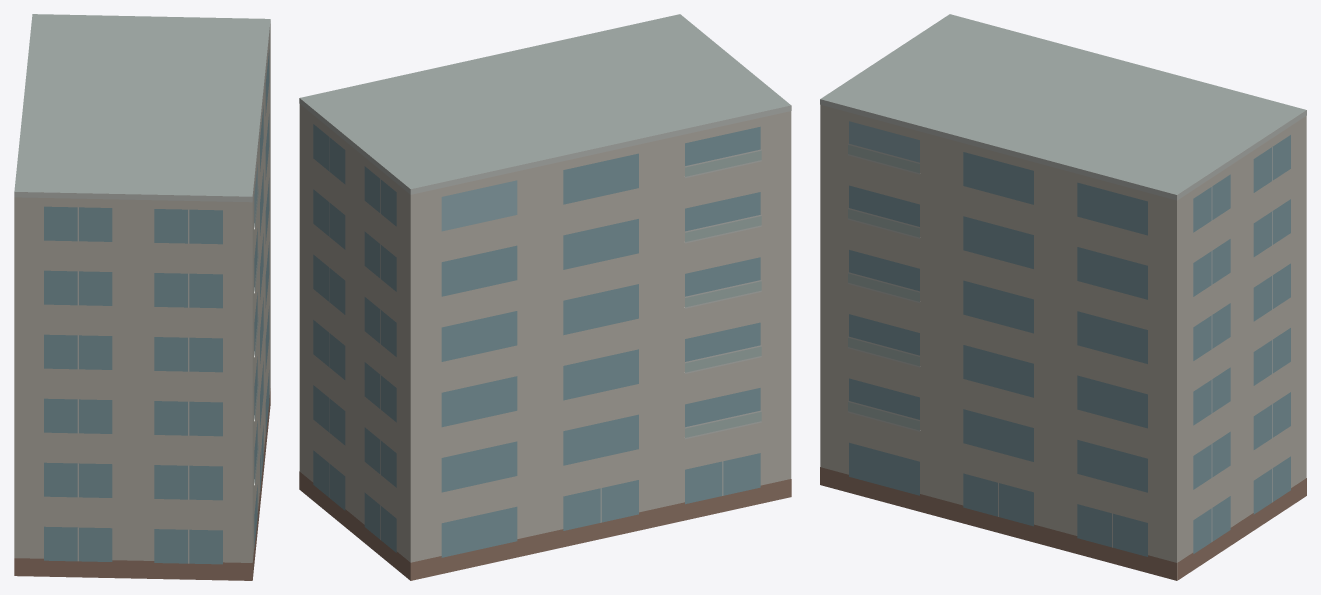
The model's file is survey-upis-32853449.glb.
3 renders of one model, left to right at view 1: azimuth 30°, elevation 25°; view 2: azimuth 150°, elevation 25°; view 3: azimuth 270°, elevation 25°, orthographic.
Visible parts, largest first — view 1: survey-upis-32853449.tmp; view 2: survey-upis-32853449.tmp; view 3: survey-upis-32853449.tmp.
Boxes of the visible parts, bbox=[...] form: survey-upis-32853449.tmp: bbox=[14, 14, 270, 580]; survey-upis-32853449.tmp: bbox=[299, 14, 791, 580]; survey-upis-32853449.tmp: bbox=[820, 14, 1306, 580].
Bounding box in the file's own units: 17.22 × 17.1 × 19.56.
